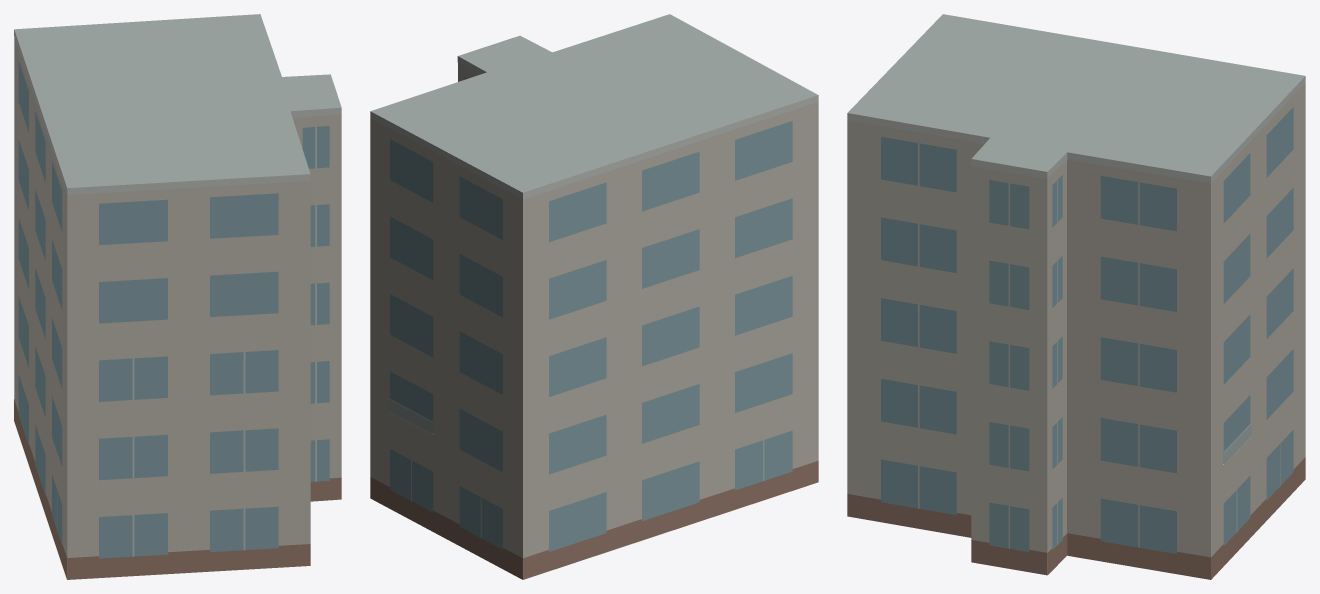
Rendered from survey-upis-32749902.glb.
3 views of the same model, side by side, from view 1: azimuth 30°, elevation 25°; view 2: azimuth 150°, elevation 25°; view 3: azimuth 270°, elevation 25° (orthographic). The views are drawn at different scales.
Visible parts, largest first — view 1: survey-upis-32749902.tmp; view 2: survey-upis-32749902.tmp; view 3: survey-upis-32749902.tmp.
Boxes of the visible parts, x1,y1,x2,y2 form: survey-upis-32749902.tmp: [14, 14, 341, 579]; survey-upis-32749902.tmp: [370, 14, 818, 579]; survey-upis-32749902.tmp: [847, 14, 1305, 579].
Bounding box in the file's own units: 12.1 × 14 × 14.43.
